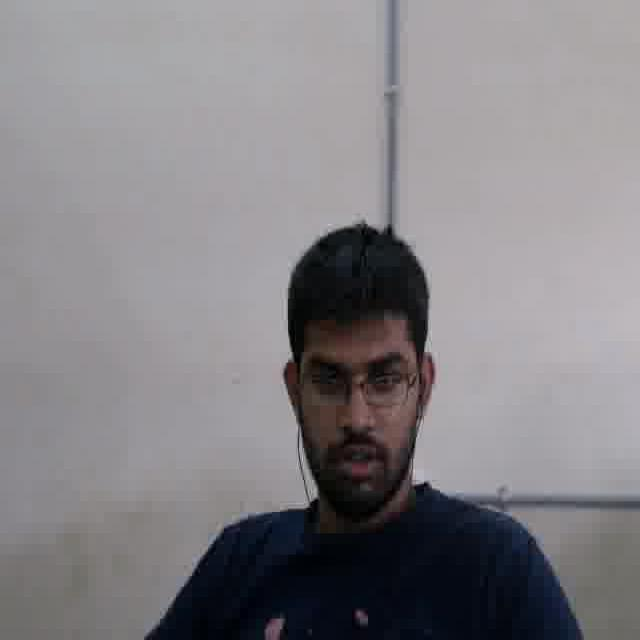Boredom: (295, 311, 415, 501)
